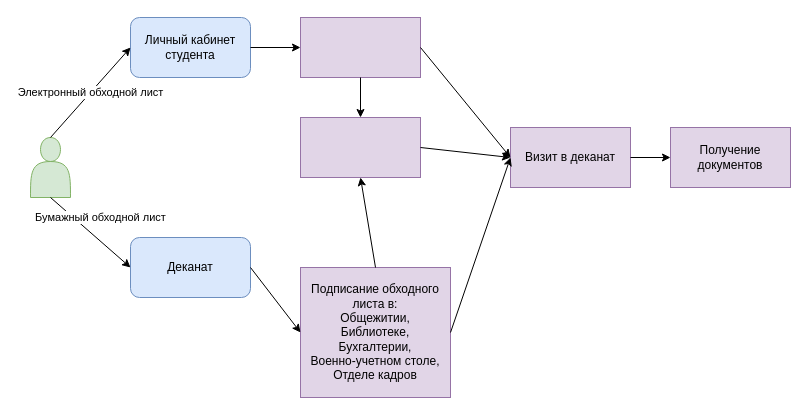
Image size: 808x415. Some labels were removed from this diagram. Each missing label, with the centre of its shape:
"Погашение задолженностей" goes at (x=360, y=147).
"Электронное согласование обходного листа" goes at (x=360, y=47).
